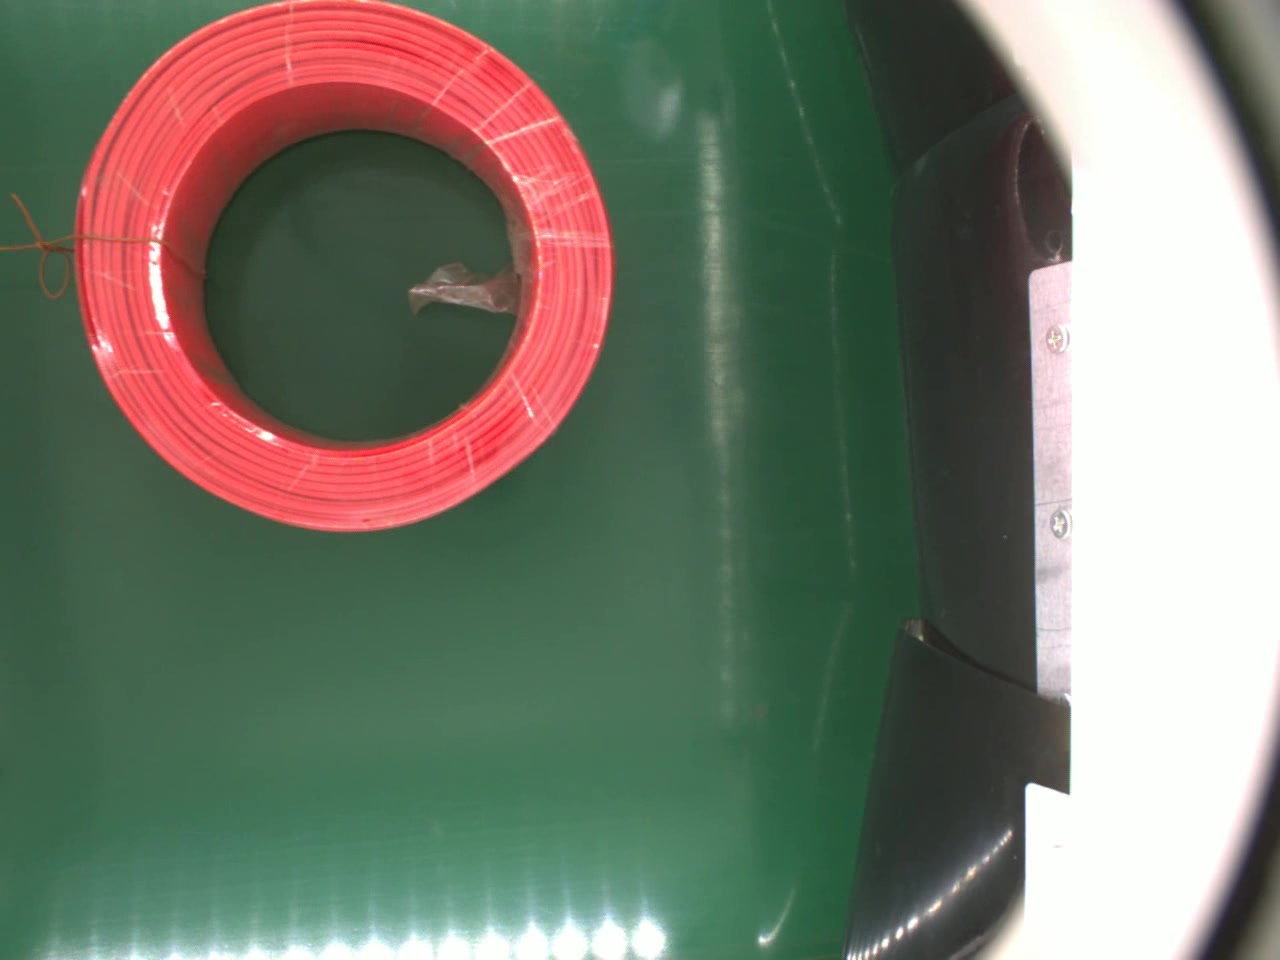red: (71, 2, 617, 541)
